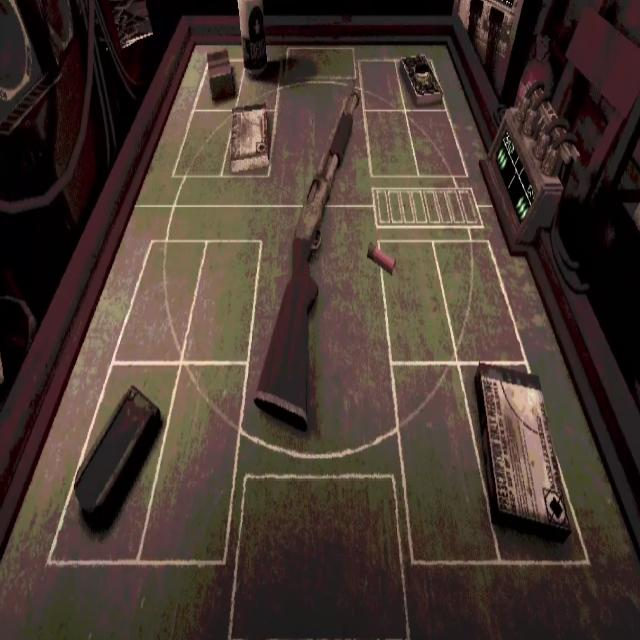can: (237, 0, 268, 73)
changepolarity: (398, 55, 446, 111)
cigar: (206, 47, 238, 99)
expired-medicine: (474, 362, 571, 543), (227, 104, 269, 175)
phone: (74, 386, 162, 532)
